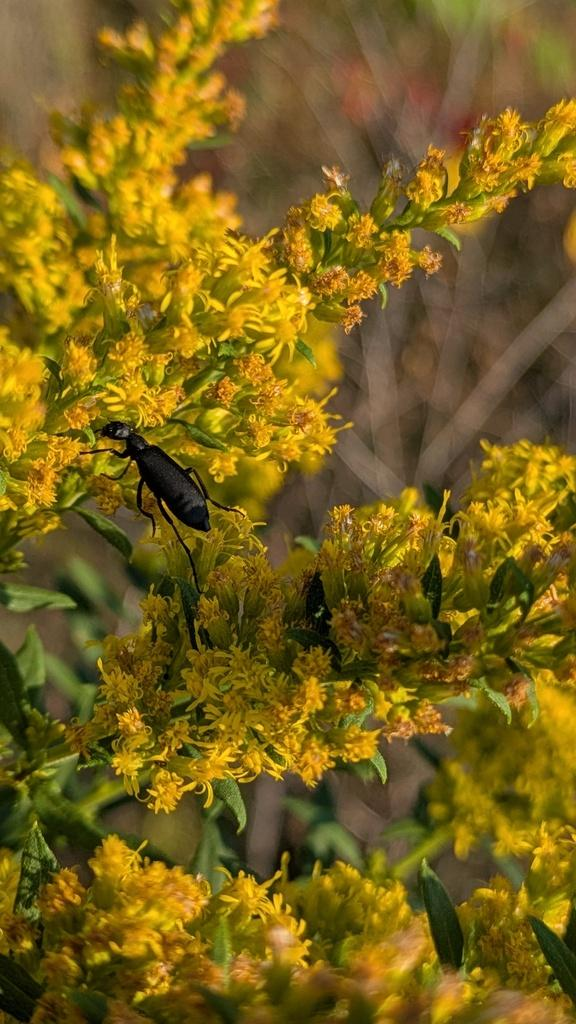blister_beetle: (65, 397, 268, 605)
